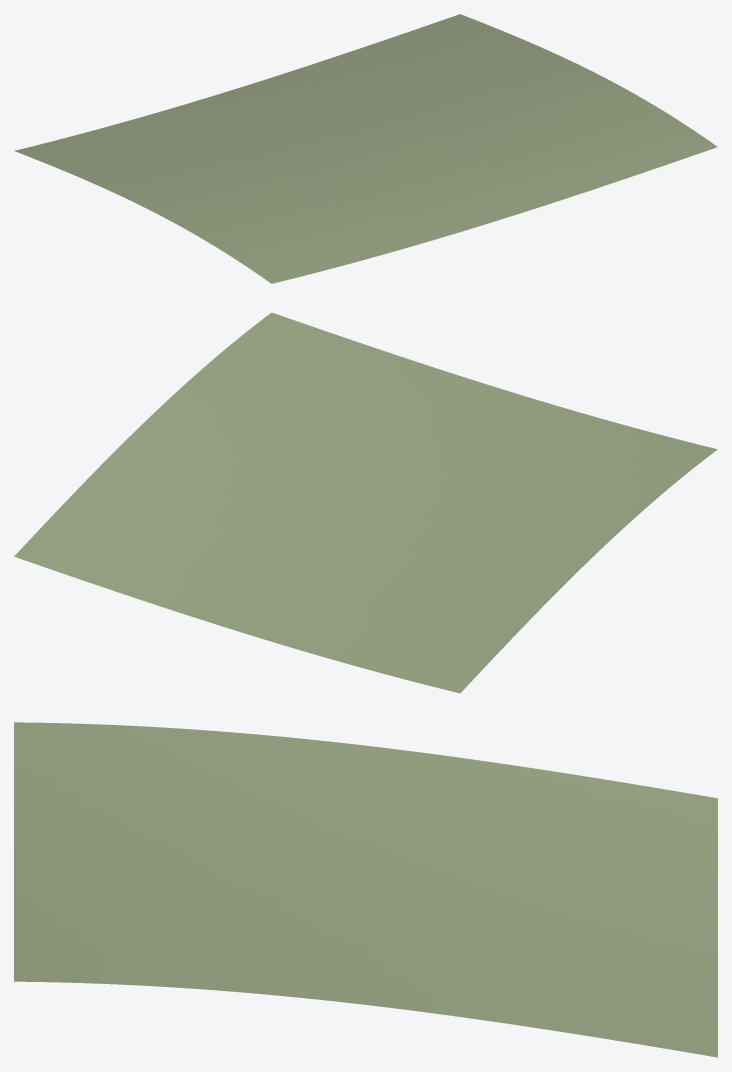
Rendered from valley-0-14.glb.
The picture shows the model from 3 angles, top to bottom: view 1: azimuth 30°, elevation 25°; view 2: azimuth 150°, elevation 25°; view 3: azimuth 270°, elevation 25°; orthographic projection. The views are drawn at different scales.
Visible parts, largest first — view 1: valley-0-14; view 2: valley-0-14; view 3: valley-0-14.
Part boxes in pixels (x1,y1,x2,y2): valley-0-14: (14,14,717,283); valley-0-14: (14,312,717,693); valley-0-14: (14,722,717,1057).
Bounding box in the file's own units: 256 × 45.81 × 256.
